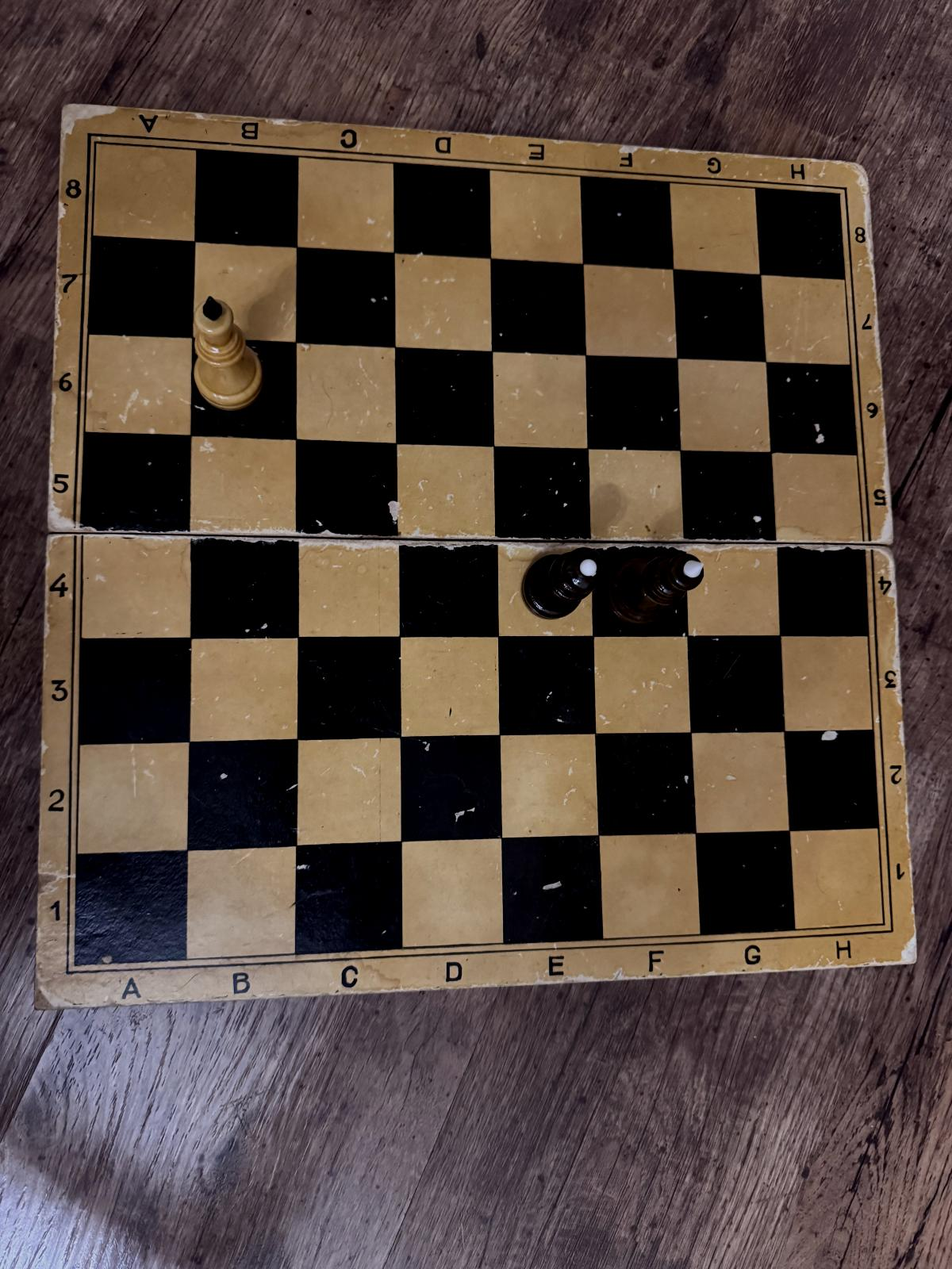Chess-Board: (75, 142, 884, 964)
